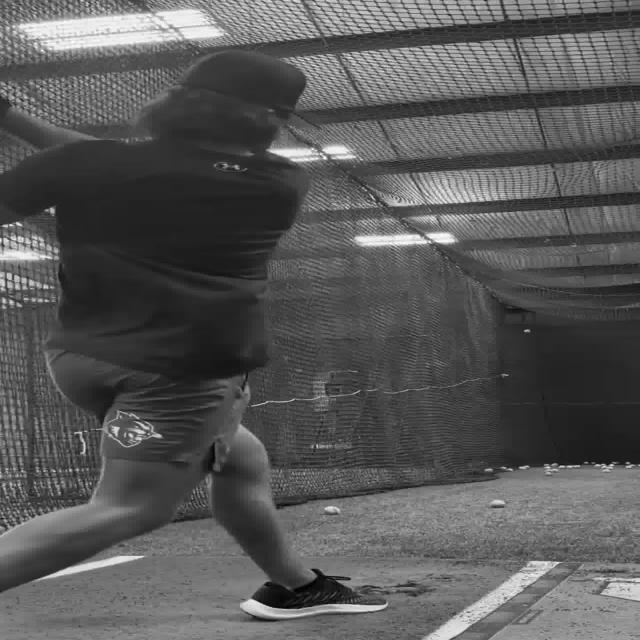baseball: (323, 506, 340, 514), (488, 499, 505, 507), (524, 330, 533, 333)
shoe: (238, 568, 388, 620)
